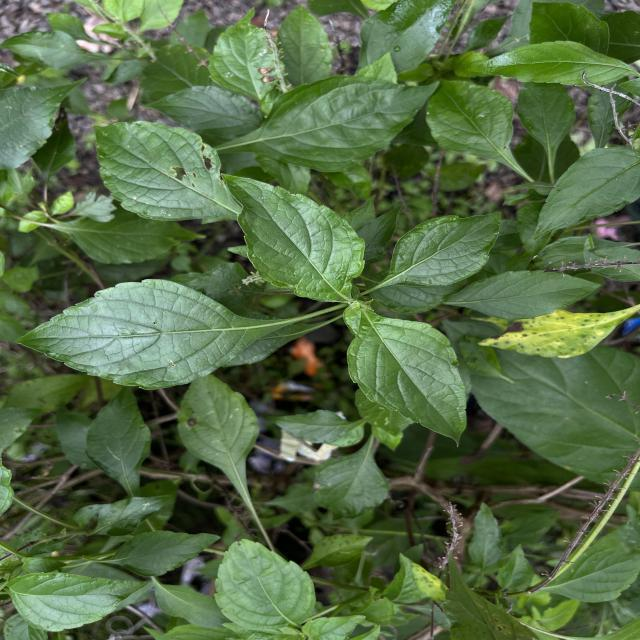Ocimum gratissimum: (10, 274, 298, 395), (231, 70, 448, 178), (217, 168, 367, 308), (342, 306, 472, 454), (86, 118, 240, 226), (171, 382, 263, 517), (528, 142, 640, 245), (375, 208, 508, 292), (214, 536, 320, 630), (463, 35, 640, 91), (3, 568, 151, 634), (436, 267, 604, 323), (82, 384, 156, 491)
